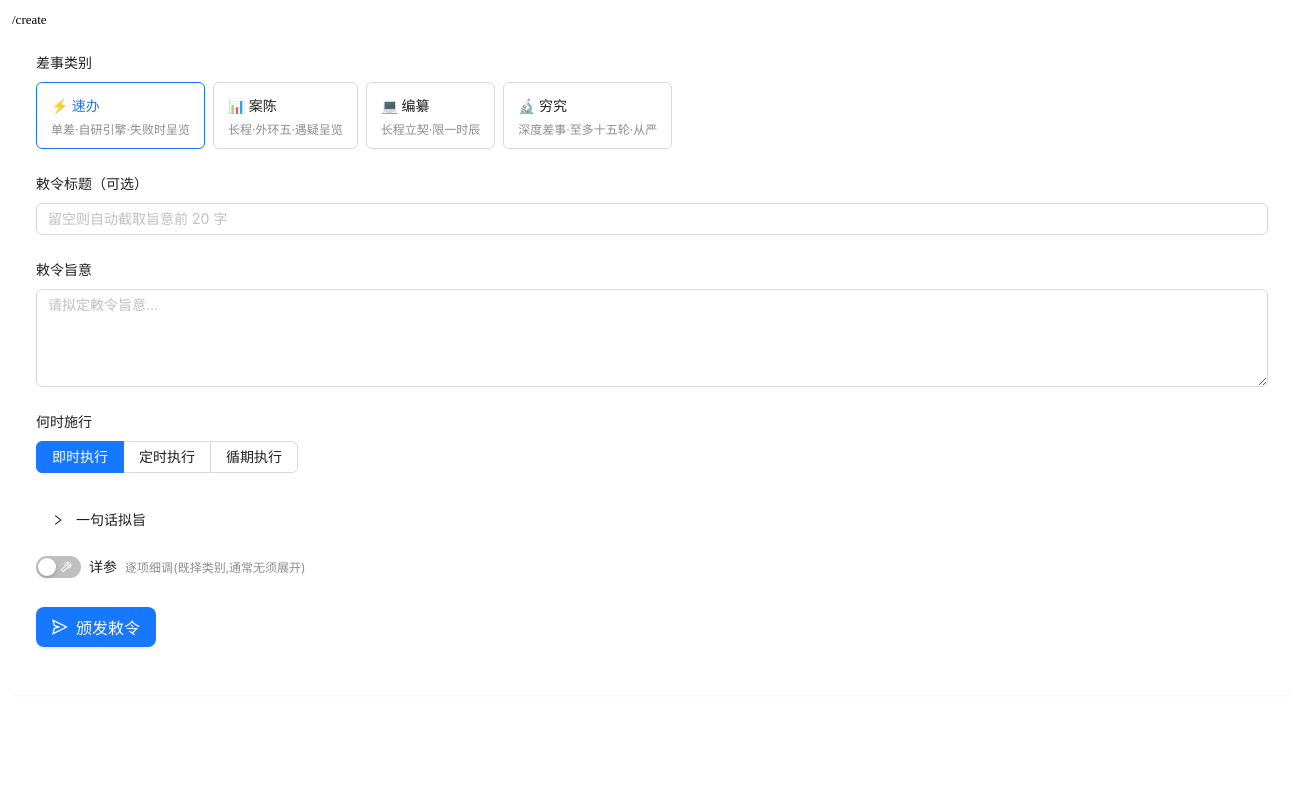
Scenario: first-run onboarding › keeps the detail route stable when a late onboarding request completes
The width and height of the screenshot is (1292, 786).
Type "完成首次治理任务" into the text box labelled "敕令旨意". click: (652, 338)
box: [36,289,1268,387]
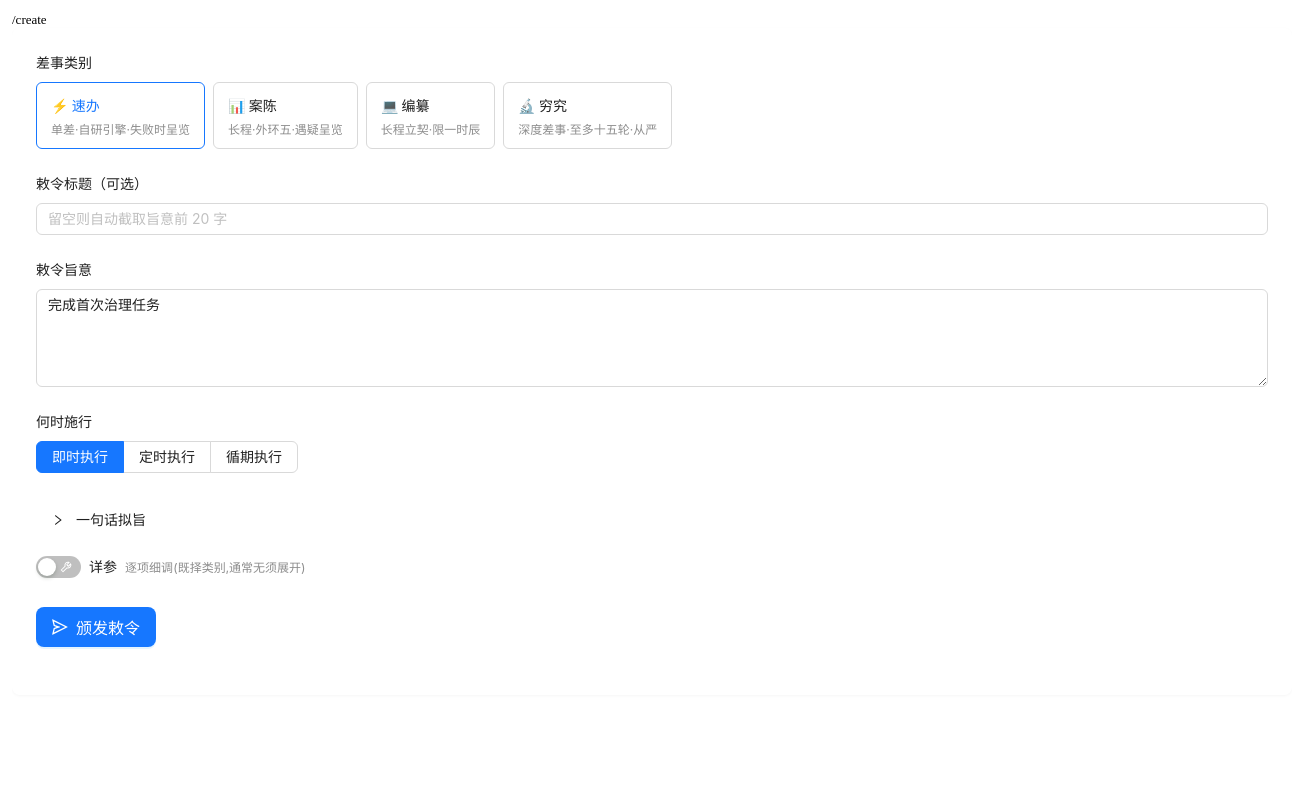
Click the button "颁发敕令". click: (96, 627)
box: [36,607,156,647]
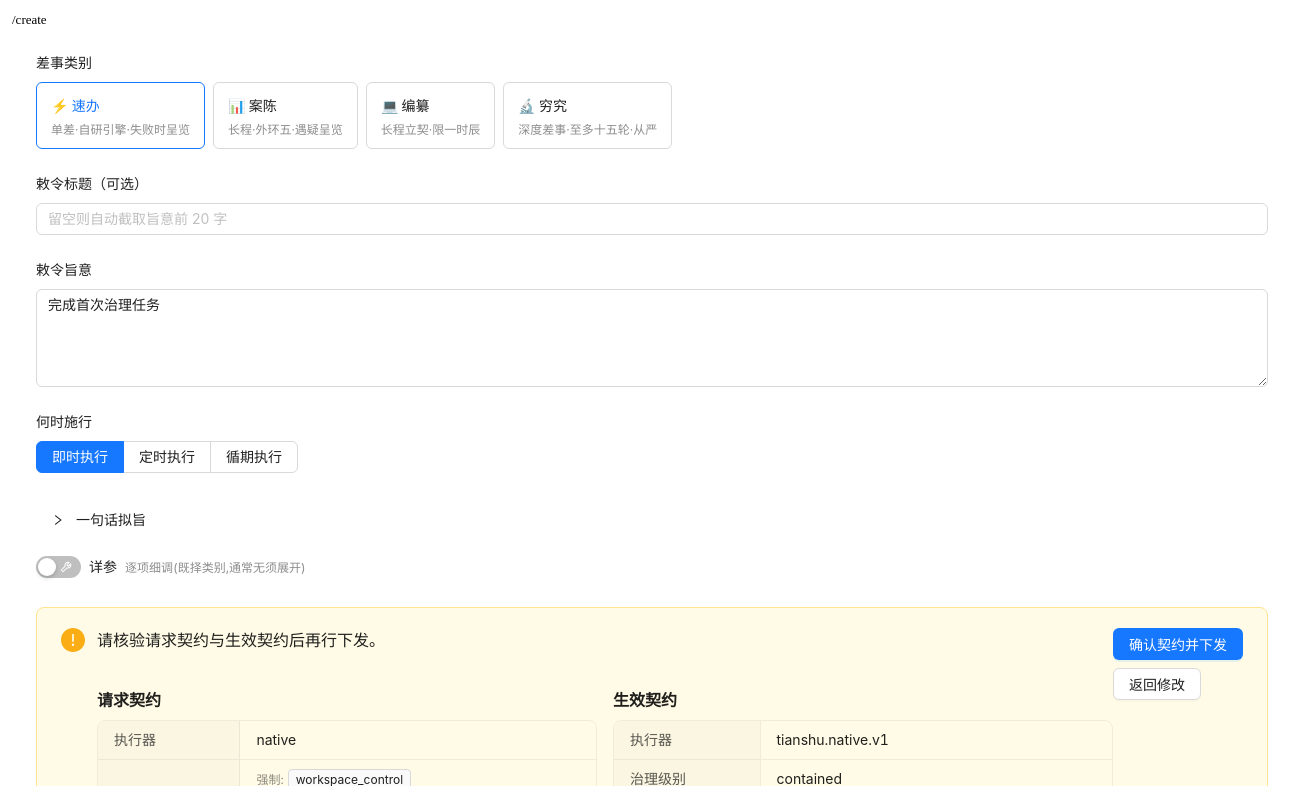
Click the button "确认契约并下发". click: (1178, 644)
box: [1113,628,1243,660]
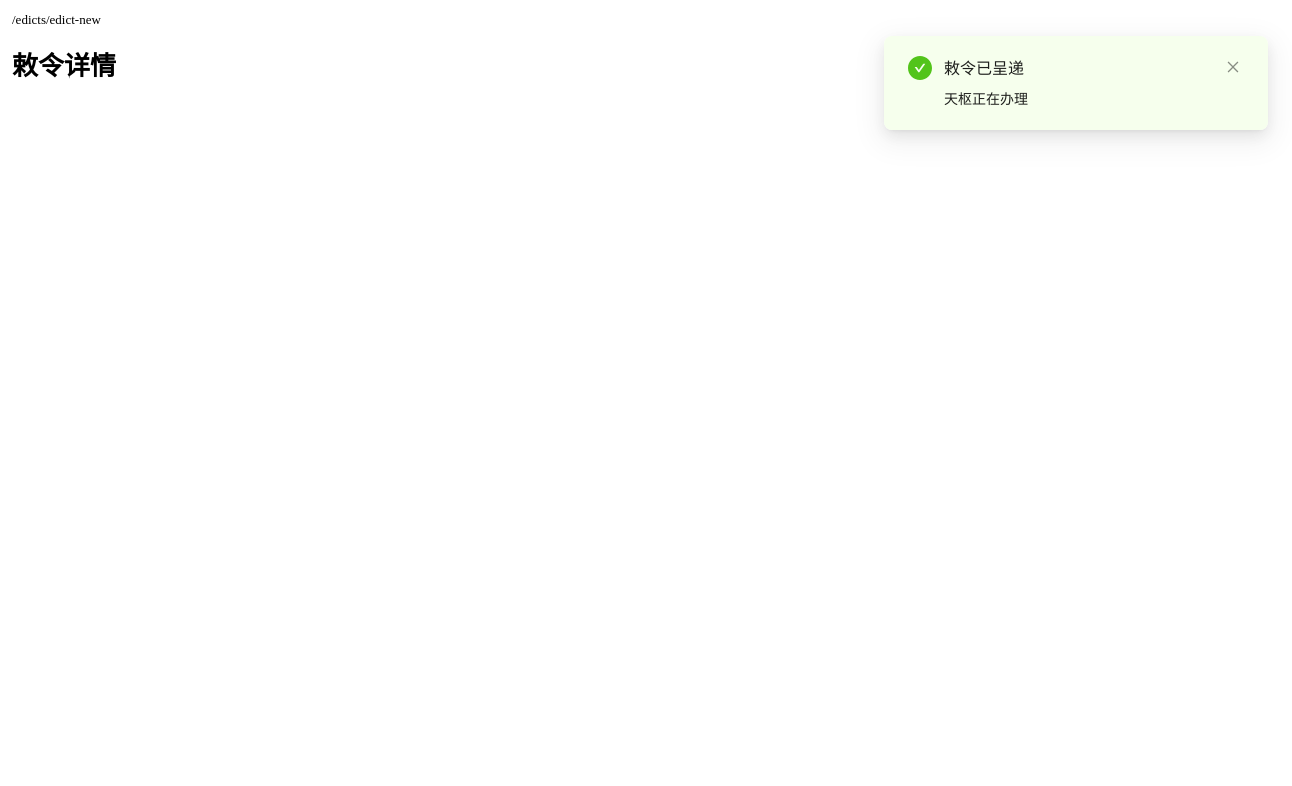
Expected: the text "/edicts/edict-new" is shown, [12,12,101,27]
Expected: the heading "敕令详情" is shown, [12,52,116,81]
